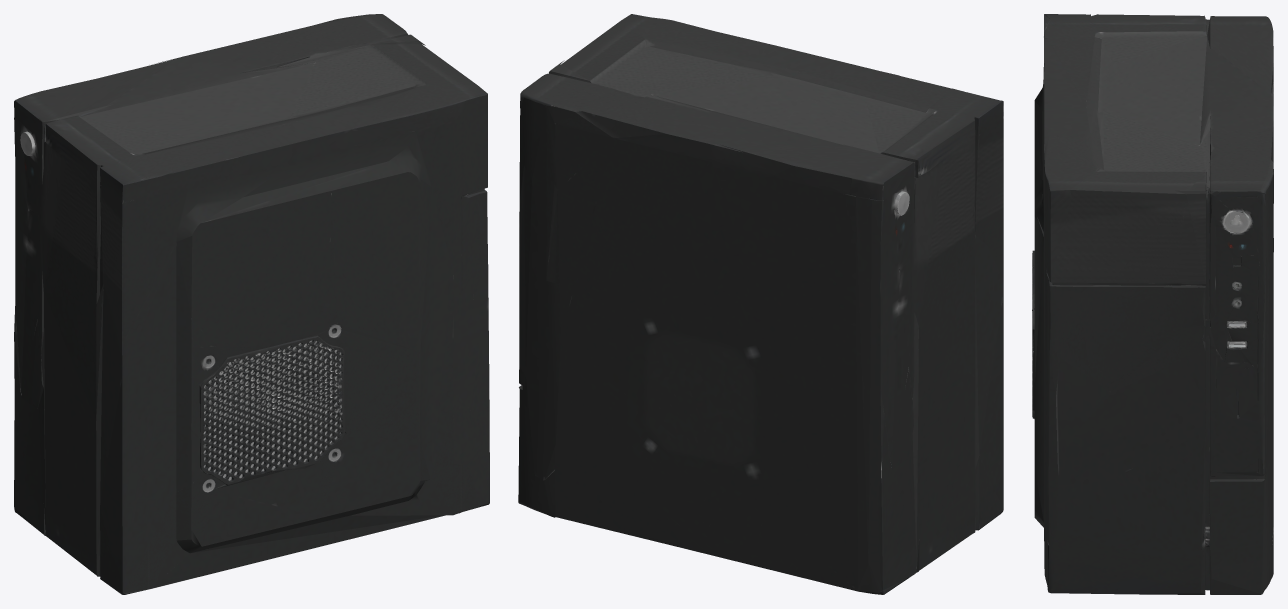
The model's file is Computer.fbx.
3 views of the same model, side by side, from view 1: azimuth 30°, elevation 25°; view 2: azimuth 150°, elevation 25°; view 3: azimuth 270°, elevation 25° (orthographic). The views are drawn at different scales.
Visible parts, largest first — view 1: Meshy_Remeshed; view 2: Meshy_Remeshed; view 3: Meshy_Remeshed.
Boxes of the visible parts, x1,y1,x2,y2 form: Meshy_Remeshed: [14, 14, 489, 594]; Meshy_Remeshed: [518, 14, 1003, 594]; Meshy_Remeshed: [1032, 14, 1273, 594].
Size of the model in its own units: 181 by 190 by 103.
1 material, 1 textured.
